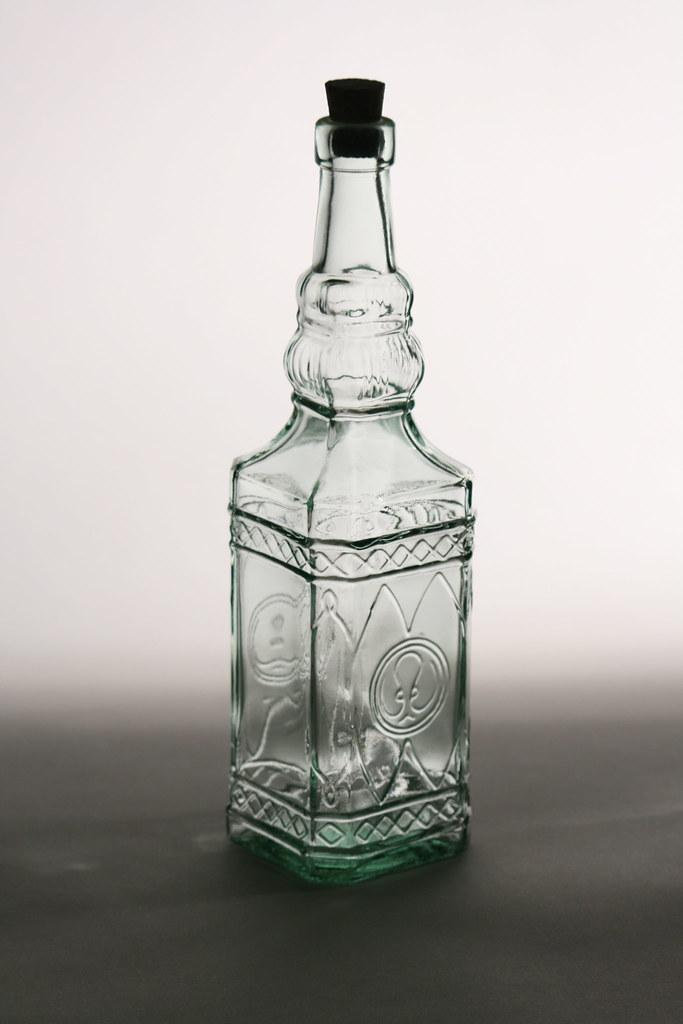bottle: (226, 77, 477, 887)
